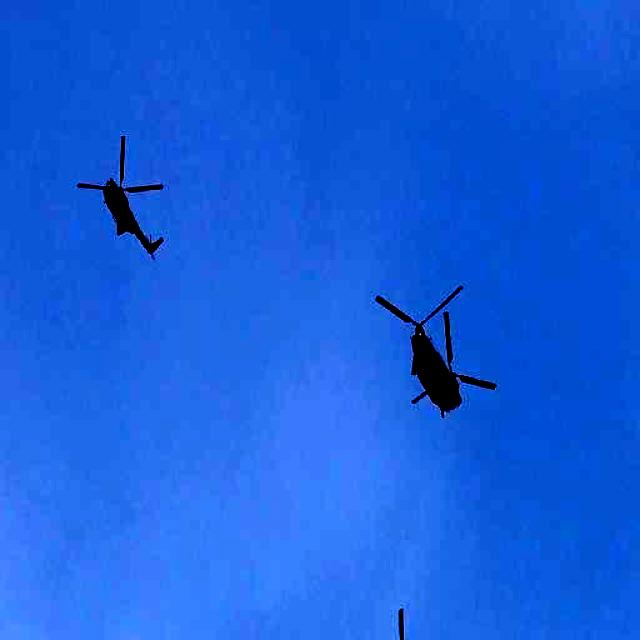drone: (378, 272, 501, 455), (84, 142, 178, 288)
